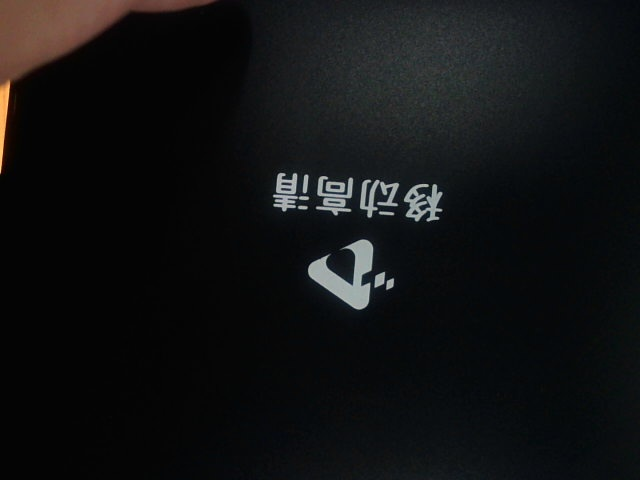AO_MobileHD: (253, 158, 458, 321)
